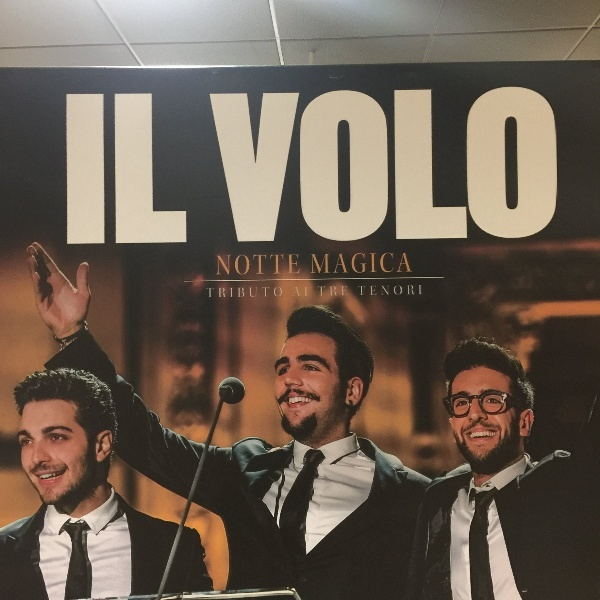text: (65, 87, 80, 250), (81, 87, 96, 250), (97, 87, 112, 250), (113, 87, 128, 250), (129, 87, 144, 250), (145, 87, 160, 250), (161, 87, 176, 250), (177, 87, 192, 250), (209, 84, 224, 247), (225, 84, 240, 247), (241, 84, 256, 247), (257, 84, 272, 247), (273, 84, 288, 247), (289, 84, 304, 247), (305, 84, 320, 247), (321, 84, 336, 247), (337, 84, 352, 247), (353, 84, 368, 247), (369, 84, 384, 247), (385, 84, 400, 247), (401, 84, 416, 247), (417, 84, 432, 247), (433, 84, 448, 247), (449, 84, 464, 247), (465, 84, 480, 247), (481, 84, 496, 247), (497, 84, 512, 247), (513, 84, 528, 247), (529, 84, 544, 247), (545, 84, 560, 247), (204, 84, 208, 247), (225, 252, 240, 278), (241, 252, 256, 278), (257, 252, 272, 278), (273, 252, 288, 278), (321, 251, 336, 276), (337, 251, 352, 276), (353, 251, 368, 276), (369, 251, 384, 276), (385, 251, 400, 276), (401, 251, 415, 276), (289, 252, 302, 278), (62, 87, 64, 250), (309, 251, 320, 276), (214, 252, 224, 278), (209, 285, 224, 301), (225, 285, 240, 301), (241, 285, 256, 301), (257, 285, 272, 301), (321, 284, 336, 299), (369, 284, 384, 298), (385, 284, 400, 298), (337, 284, 350, 299), (193, 87, 194, 250), (561, 84, 562, 247), (273, 285, 283, 301), (357, 284, 368, 298), (406, 283, 416, 298), (293, 286, 304, 299), (417, 283, 424, 298), (316, 284, 320, 299), (305, 286, 309, 299), (205, 285, 208, 301), (401, 284, 404, 298)
